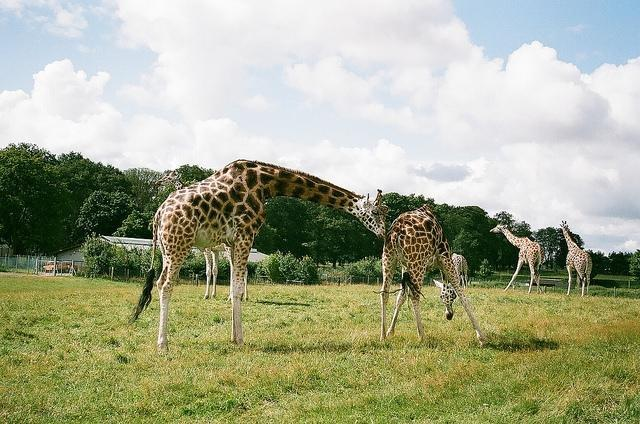car: (43, 260, 72, 272)
